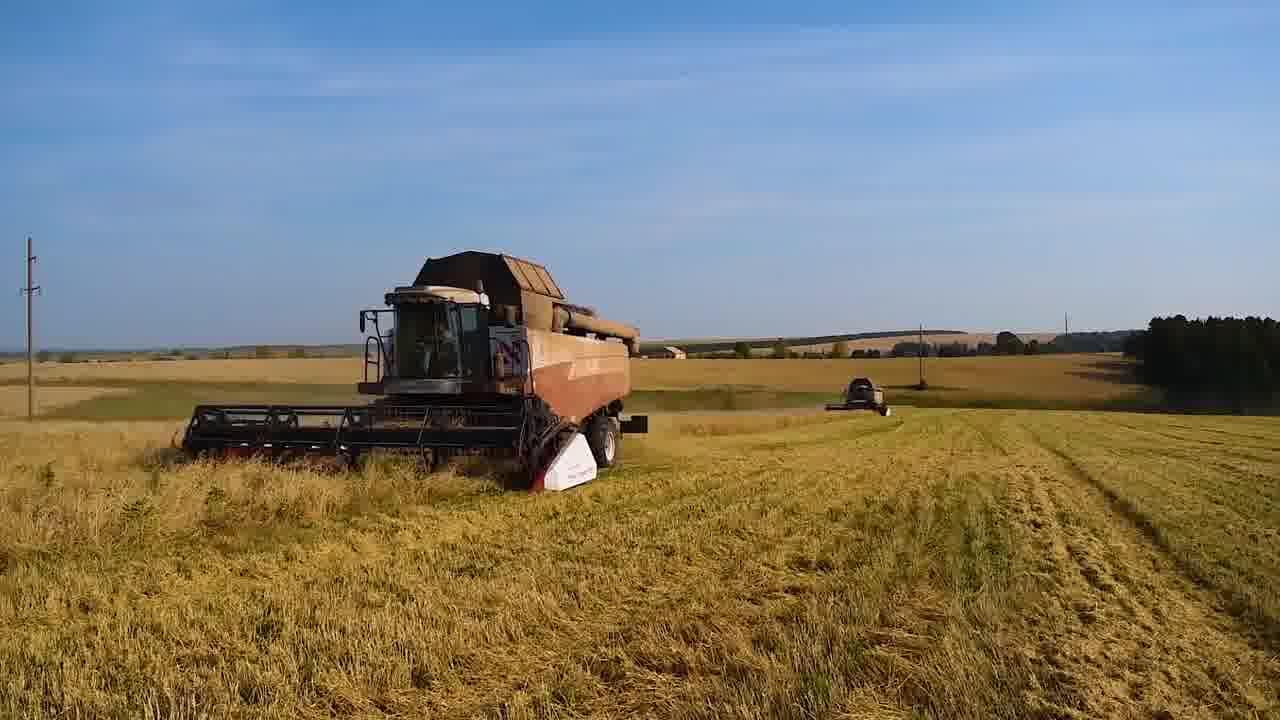combine harvester: (171, 245, 651, 495)
